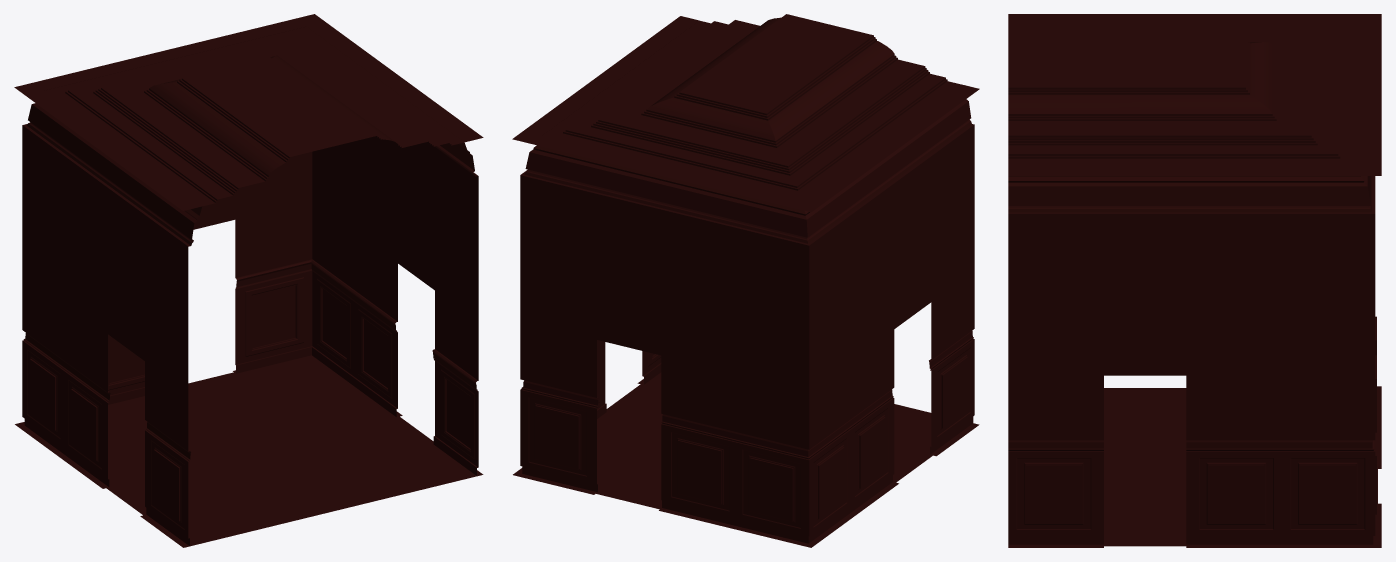
Rendered from end_hallway_v1.0.FBX.
3 renders of one model, left to right at view 1: azimuth 30°, elevation 25°; view 2: azimuth 150°, elevation 25°; view 3: azimuth 270°, elevation 25°, orthographic. The views are drawn at different scales.
Parts seen in each view (by area): view 1: hallway_end; view 2: hallway_end; view 3: hallway_end.
Part boxes in pixels (bbox=[...]): hallway_end: bbox=[14, 14, 483, 547]; hallway_end: bbox=[512, 14, 979, 547]; hallway_end: bbox=[1008, 14, 1381, 547].
Bounding box in the file's own units: 165 × 161 × 192.
